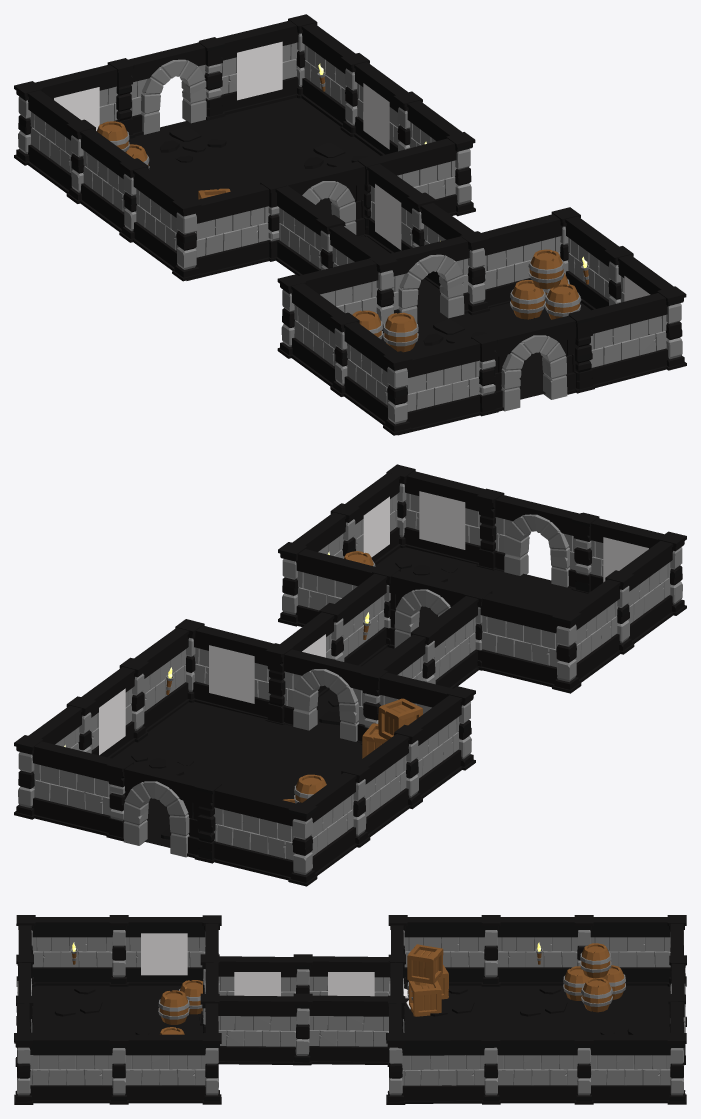
The picture shows the model from 3 angles, top to bottom: view 1: azimuth 30°, elevation 25°; view 2: azimuth 150°, elevation 25°; view 3: azimuth 270°, elevation 25°; orthographic projection. The views are drawn at different scales.
Visible parts, largest first — view 1: Cube003 (×18), Cube003_1 (×17), Plane021_1 (×3), Cube004 (×3), Cube006_1 (×2), Cube004_1 (×3), Cube006_2 (×2), Cube006, Plane007, Cylinder003_1 (×4), Cube010_2, Plane009 (+10 smaller); view 2: Cube003 (×18), Cube003_1 (×16), Cube004 (×3), Cube004_1 (×3), Cube006, Cube006_1 (×2), Plane010, Plane011, Plane021_1 (×3), Plane012, Plane009, p10 (+11 smaller); view 3: Cube003 (×18), Cube003_1 (×16), Plane022_1 (×2), Cylinder003_1 (×6), Plane022, Plane, p8, Cube004 (×3), Plane021_1 (×2), Plane005, Cube006_1 (×2), Crate008 (+10 smaller).
Boxes of the visible parts, <box> form: Cube003 (×18): <box>14,14,686,435</box>; Cube003_1 (×17): <box>18,33,682,424</box>; Plane021_1 (×3): <box>128,118,505,352</box>; Cube004 (×3): <box>107,42,595,411</box>; Cube006_1 (×2): <box>187,178,498,435</box>; Cube004_1 (×3): <box>130,59,567,411</box>; Cube006_2 (×2): <box>195,206,495,411</box>; Cube006: <box>198,20,299,120</box>; Plane007: <box>216,97,345,153</box>; Cylinder003_1 (×4): <box>384,249,579,352</box>; Cube010_2: <box>392,254,469,323</box>; Plane009: <box>173,153,294,193</box>; Cube003 (×18): <box>14,464,686,886</box>; Cube003_1 (×16): <box>18,483,682,874</box>; Cube004 (×3): <box>124,488,579,863</box>; Cube004_1 (×3): <box>123,514,577,857</box>; Cube006: <box>32,741,133,841</box>; Cube006_1 (×2): <box>360,512,664,744</box>; Plane010: <box>226,723,362,776</box>; Plane011: <box>144,702,273,758</box>; Plane021_1 (×3): <box>112,689,340,847</box>; Plane012: <box>461,568,575,608</box>; Plane009: <box>197,758,300,799</box>; p10: <box>419,491,465,549</box>; Cube003 (×18): <box>14,915,686,1104</box>; Cube003_1 (×16): <box>17,930,683,1095</box>; Plane022_1 (×2): <box>404,985,583,1021</box>; Cylinder003_1 (×6): <box>159,943,624,1024</box>; Plane022: <box>32,985,118,1021</box>; Plane: <box>584,985,670,1021</box>; p8: <box>141,933,187,975</box>; Cube004 (×3): <box>15,955,686,1066</box>; Plane021_1 (×2): <box>119,1022,670,1034</box>; Plane005: <box>119,985,201,1021</box>; Cube006_1 (×2): <box>16,925,405,1025</box>; Crate008: <box>407,944,443,984</box>.
Bounding box in the file's own units: 12.83 × 3.16 × 28.94.
